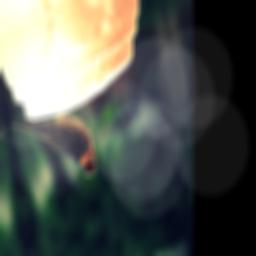Swallow: (9, 79, 100, 217)
